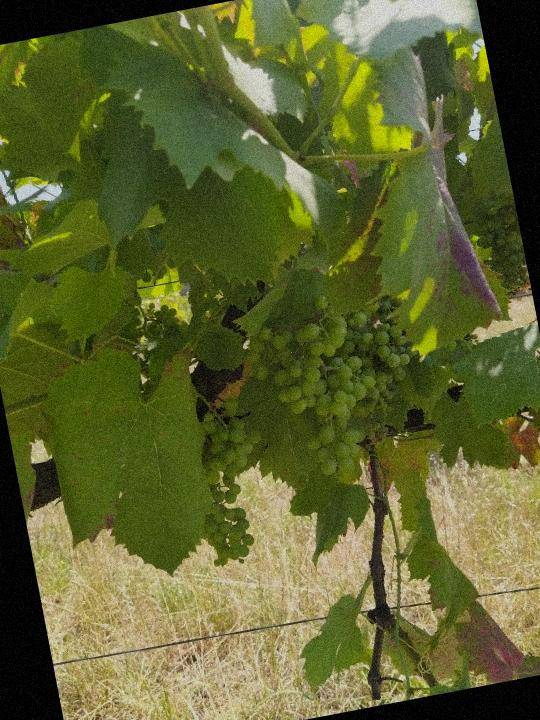grape: (244, 299, 439, 504), (182, 397, 284, 572)
